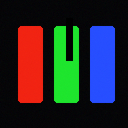4 line_v: (66, 18, 72, 60)
